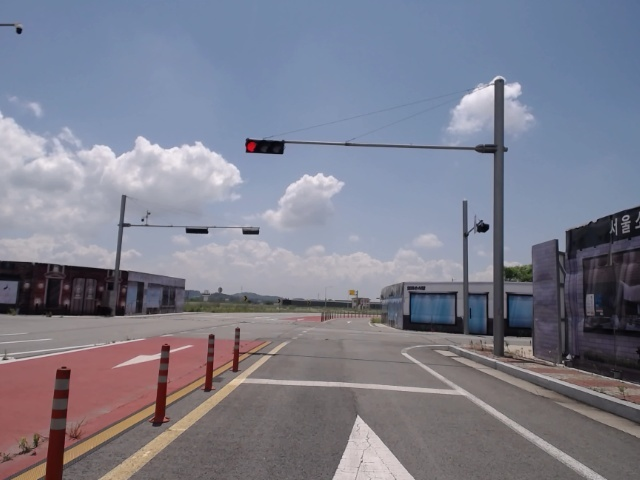red_3: (242, 136, 287, 154)
